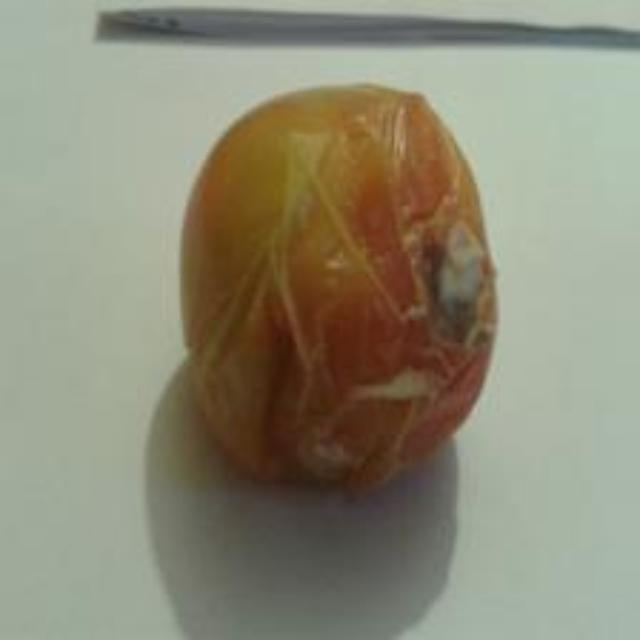defect: (173, 76, 510, 511)
